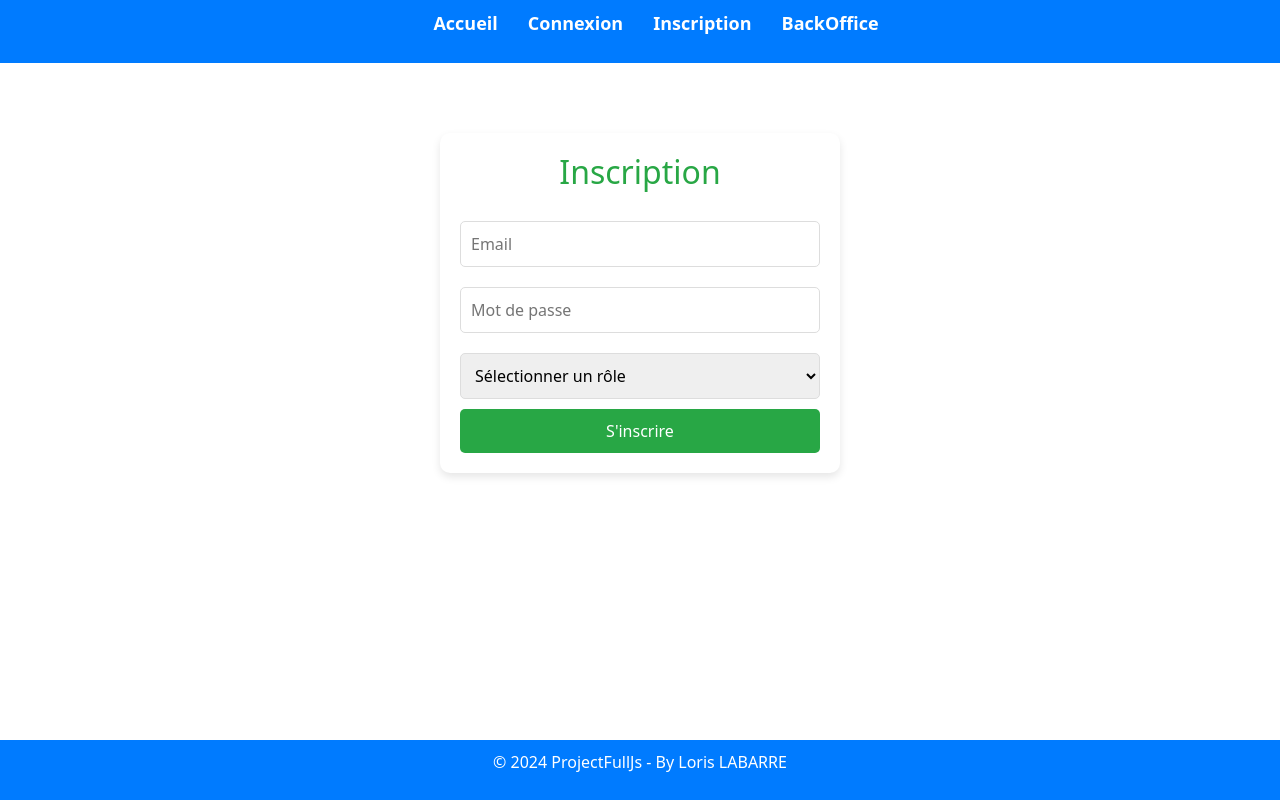
Test: Page d'inscription - UserSignup › Tente une inscription avec des informations incorrectes
The image size is (1280, 800).
Type "invalid-email@test.net" into the field with placeholder "Email" at (640, 244), box x1=460 y1=221 x2=820 y2=267
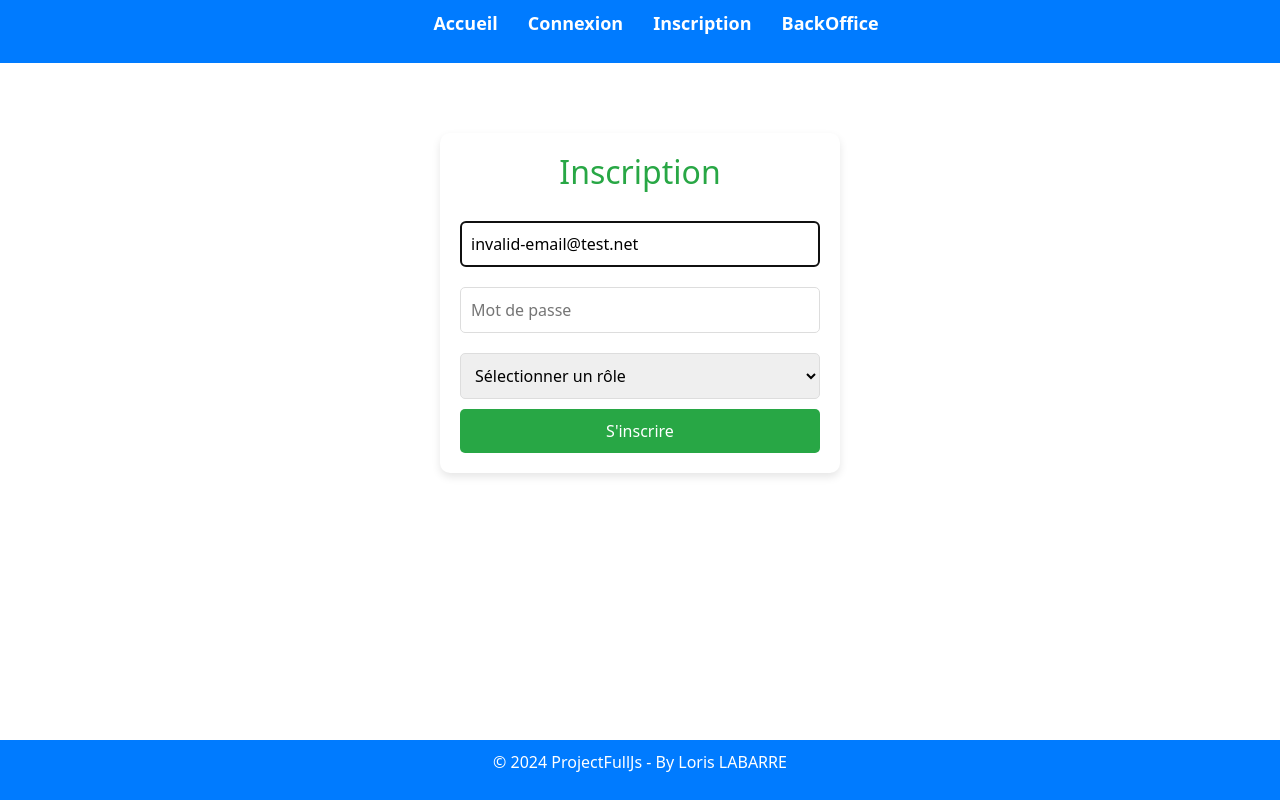
Type "short" into the password field with placeholder "Mot de passe" at (640, 310), box x1=460 y1=287 x2=820 y2=333
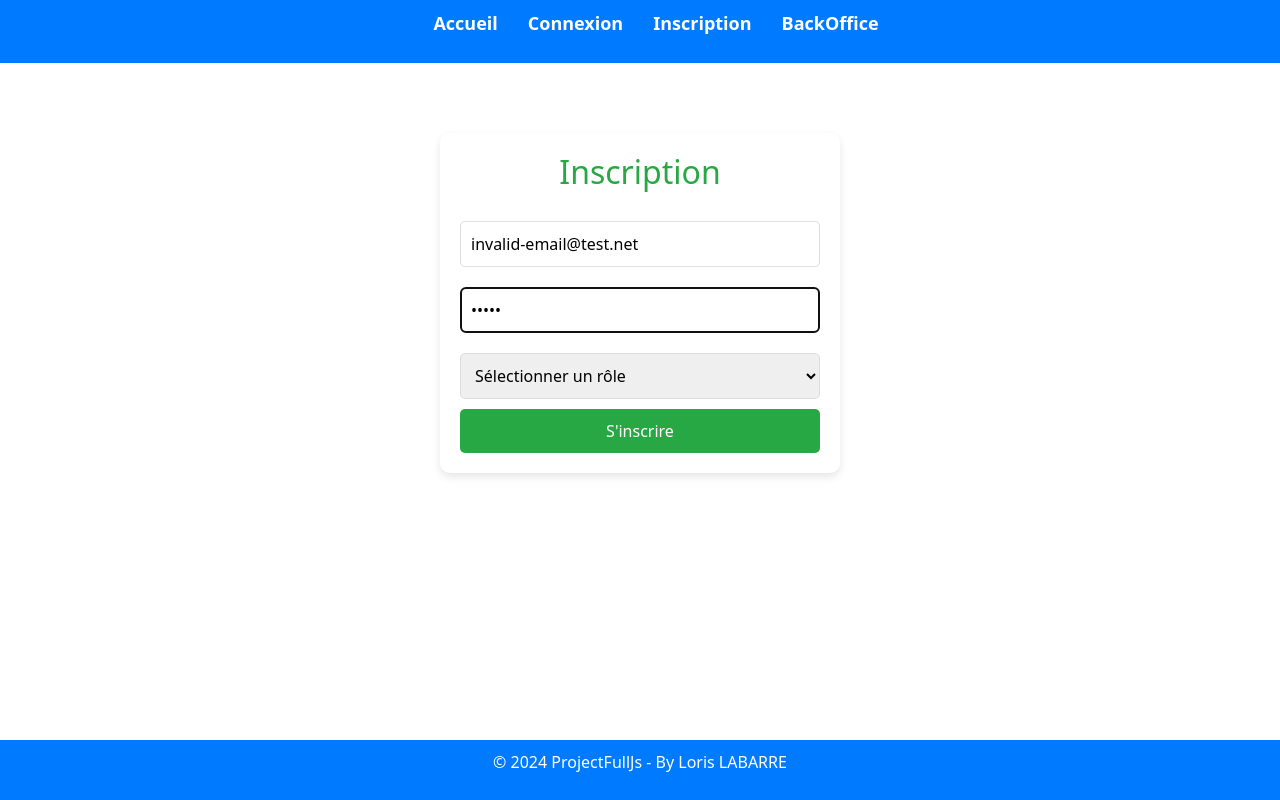
Select "guest" in the dropdown at (640, 376), box x1=460 y1=353 x2=820 y2=399
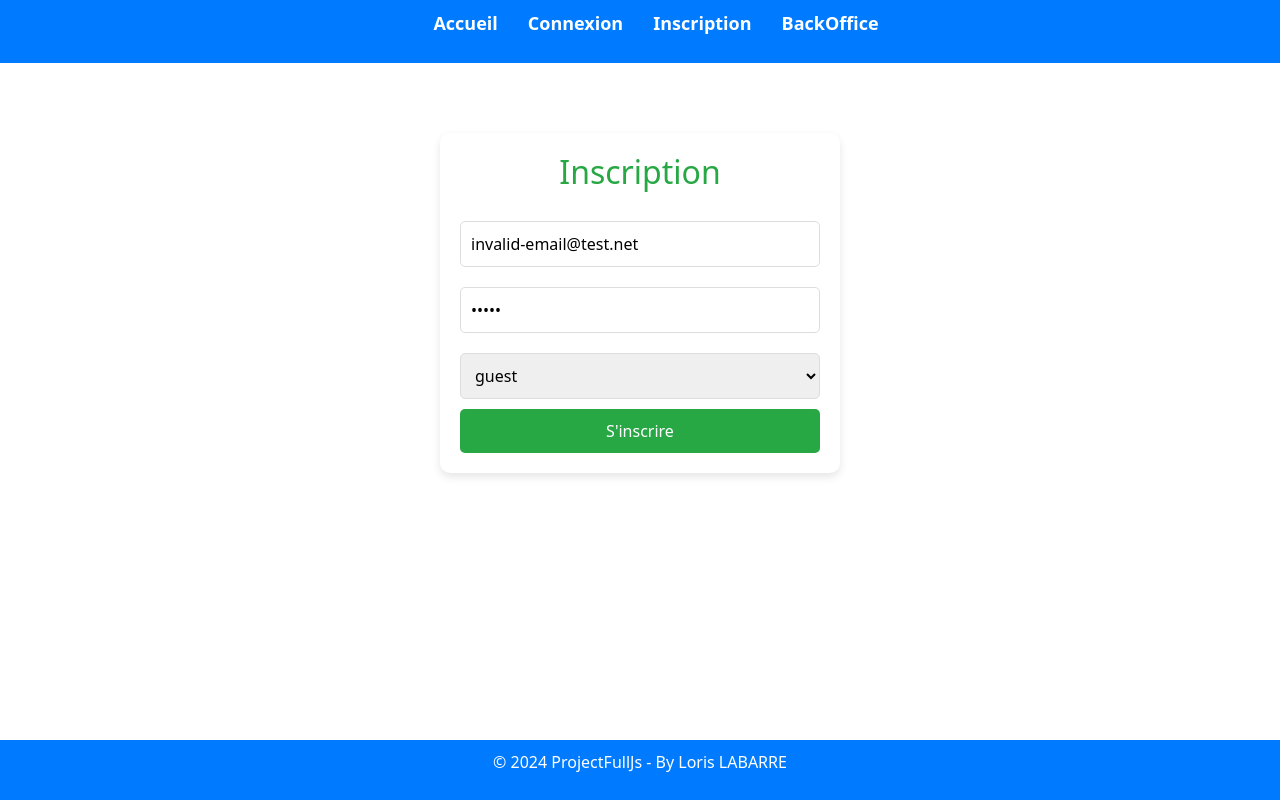
Click the submit button at (640, 431), box x1=460 y1=409 x2=820 y2=453
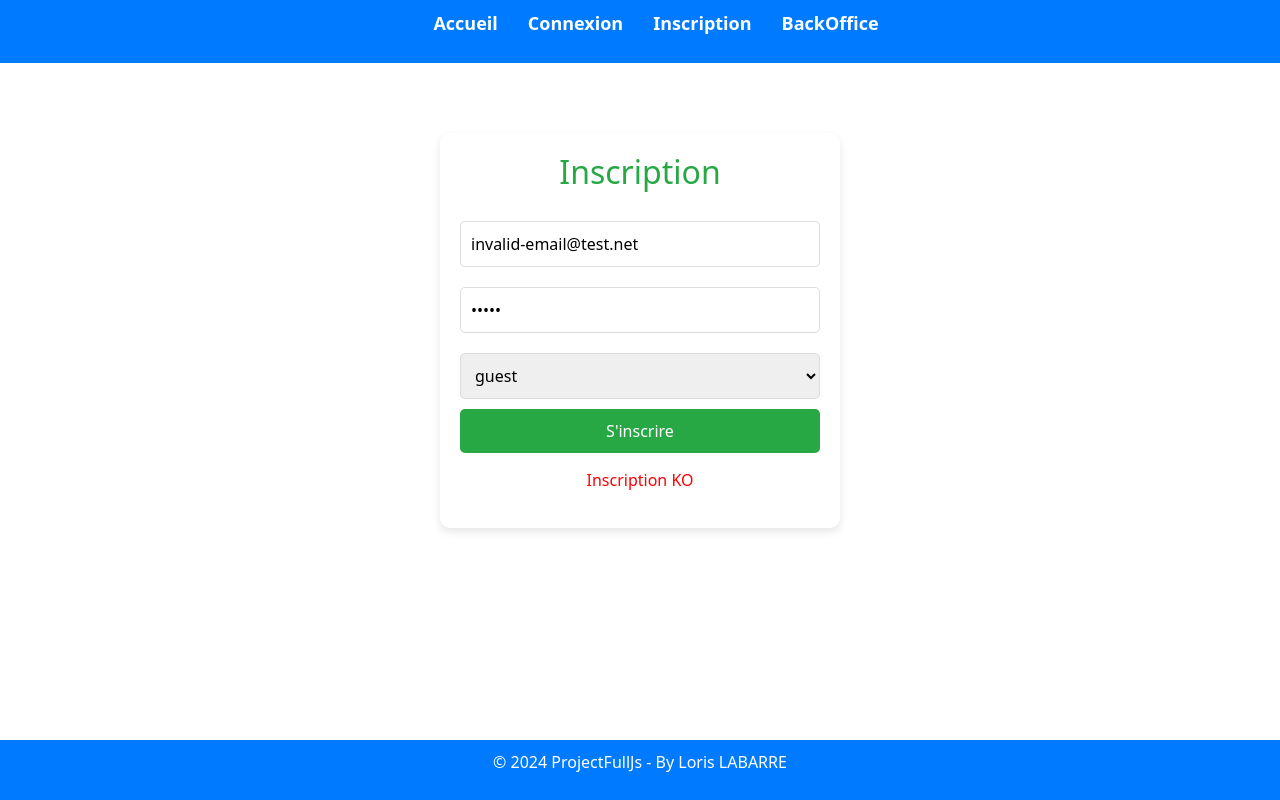
Expected: the text "Inscription KO" is shown, x1=586 y1=469 x2=694 y2=491
Expected: the text with class "error-message" reads "Inscription KO", x1=587 y1=469 x2=694 y2=491
